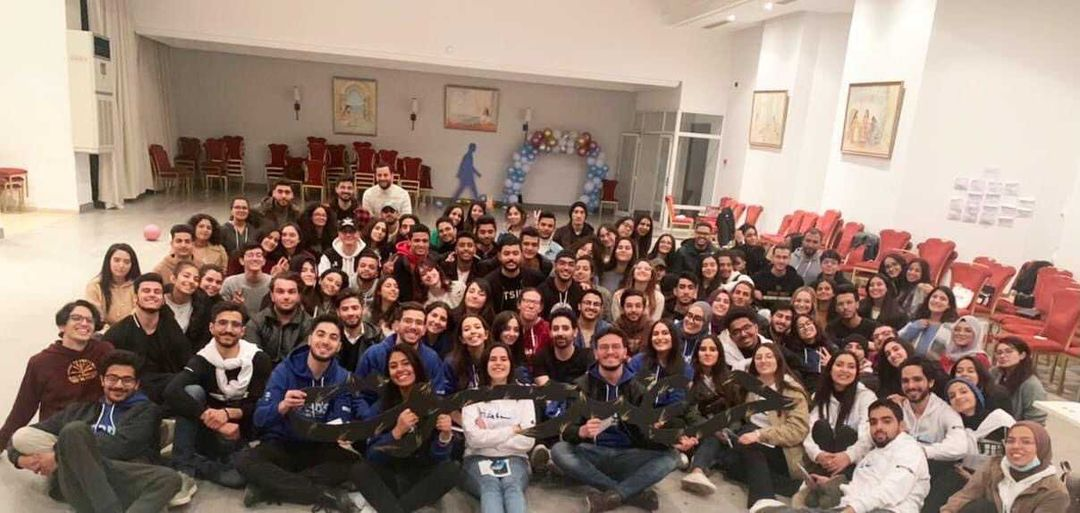without_mask: (104, 370, 134, 398), (1003, 435, 1034, 461), (870, 414, 898, 442), (386, 360, 417, 385), (314, 329, 338, 360), (68, 313, 95, 340), (215, 318, 242, 340), (599, 340, 622, 365), (732, 321, 754, 346), (139, 285, 164, 306), (950, 388, 973, 410), (486, 354, 509, 374), (499, 323, 522, 343), (952, 326, 975, 346), (835, 297, 856, 318), (553, 321, 573, 343), (753, 351, 775, 371), (275, 287, 296, 307), (403, 317, 423, 338), (834, 359, 855, 379), (651, 327, 671, 348), (696, 343, 718, 362), (900, 376, 922, 395), (996, 348, 1016, 368), (428, 312, 448, 332), (463, 324, 484, 343), (179, 272, 198, 293), (341, 304, 362, 323), (500, 249, 521, 268), (270, 186, 292, 204), (583, 297, 601, 318), (244, 249, 264, 267), (930, 292, 948, 312), (675, 283, 695, 301), (685, 310, 704, 328), (358, 260, 377, 278), (412, 236, 430, 255), (795, 296, 813, 315), (111, 257, 131, 274), (418, 268, 438, 285), (231, 203, 249, 221), (868, 279, 887, 296), (458, 241, 475, 259), (614, 242, 632, 259), (465, 290, 484, 306), (523, 299, 539, 318), (635, 263, 651, 282), (700, 259, 719, 275), (625, 301, 642, 318), (557, 259, 574, 276), (172, 237, 191, 252), (773, 251, 789, 268), (198, 223, 214, 240), (714, 296, 729, 314), (382, 283, 398, 299), (339, 183, 353, 201), (377, 171, 391, 187), (573, 208, 585, 224)
